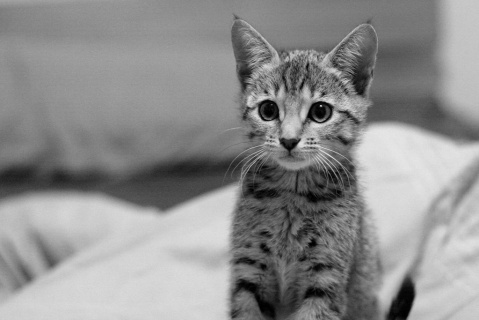Cat: (211, 10, 420, 320)
